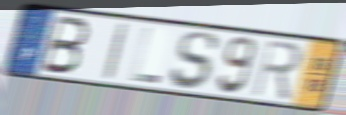9: (216, 35, 259, 97)
B: (37, 13, 91, 77)
I: (101, 20, 131, 83)
L: (128, 26, 162, 86)
R: (250, 38, 304, 102)
S: (169, 31, 220, 91)
